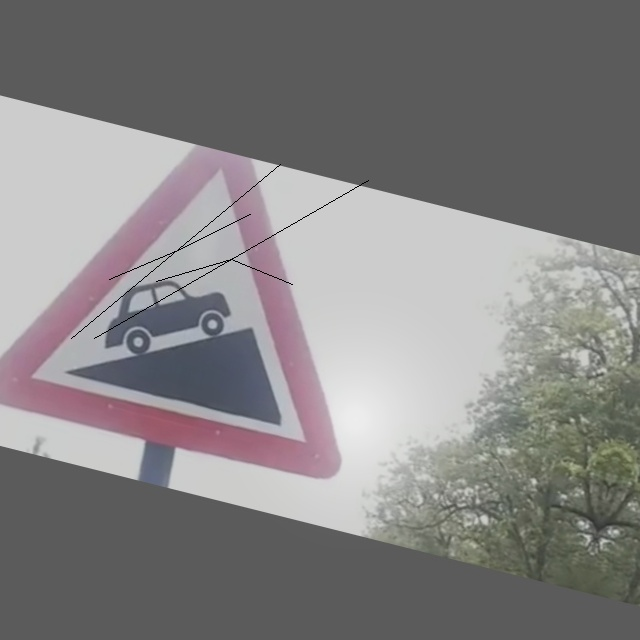Steep_Ascent: (1, 132, 396, 483)
